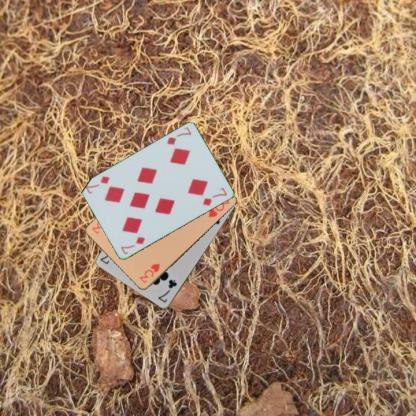3h: (137, 261, 161, 285)
7c: (155, 277, 178, 304)
7d: (118, 234, 146, 256), (164, 124, 192, 146)
